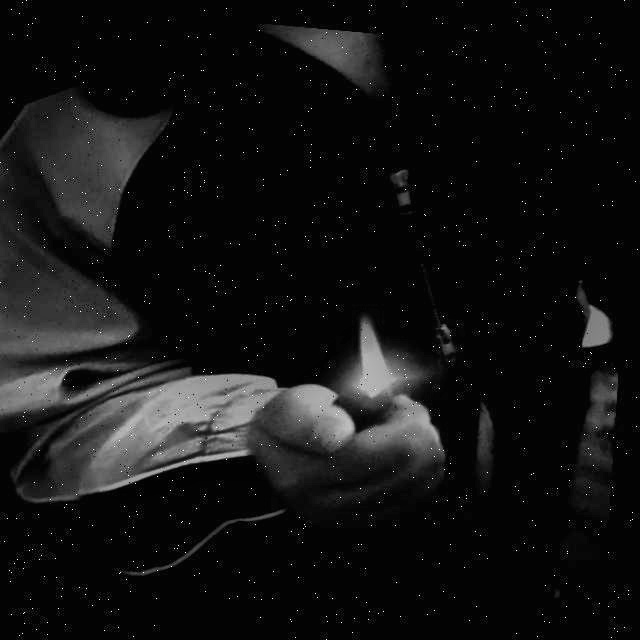Fire: (340, 295, 408, 387)
